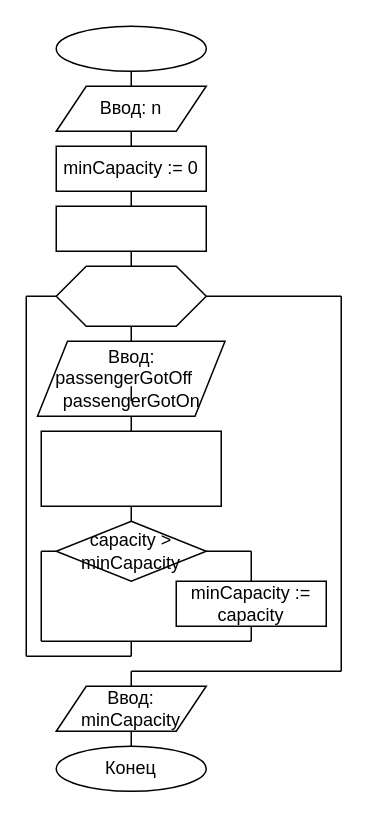
This 369x818 diagram has some shape labels left out. The box of each missing label's shape, as (x1, y1, x2, y2) in pixels:
capacity := 0: (55, 205, 206, 251)
capacity := capacity + passengersGotOn - passengersGotOff: (40, 430, 221, 506)
i := 0, n - 1: (55, 265, 206, 326)
Начало: (55, 25, 206, 71)
